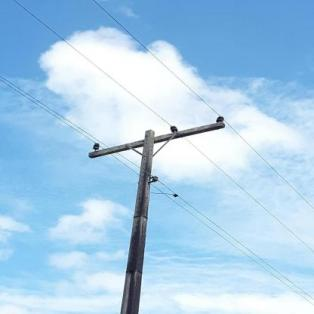Poste: (117, 127, 159, 314)
